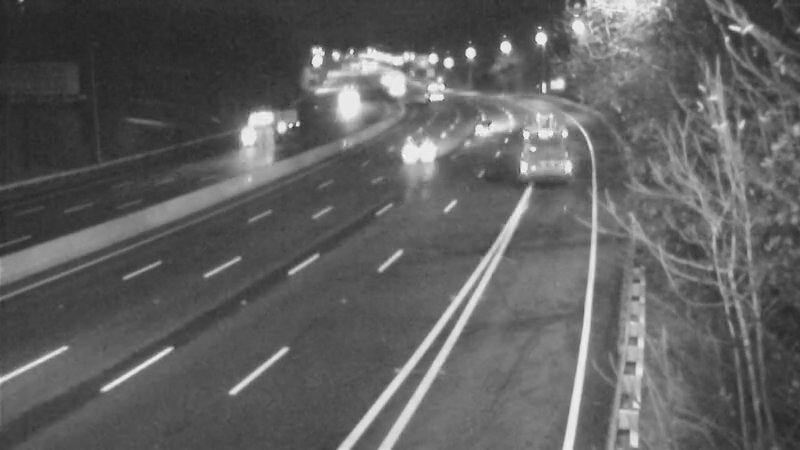vehicle: (405, 68, 455, 118), (513, 121, 563, 171), (458, 93, 508, 143), (400, 123, 450, 173), (223, 106, 273, 156), (318, 77, 368, 127)
